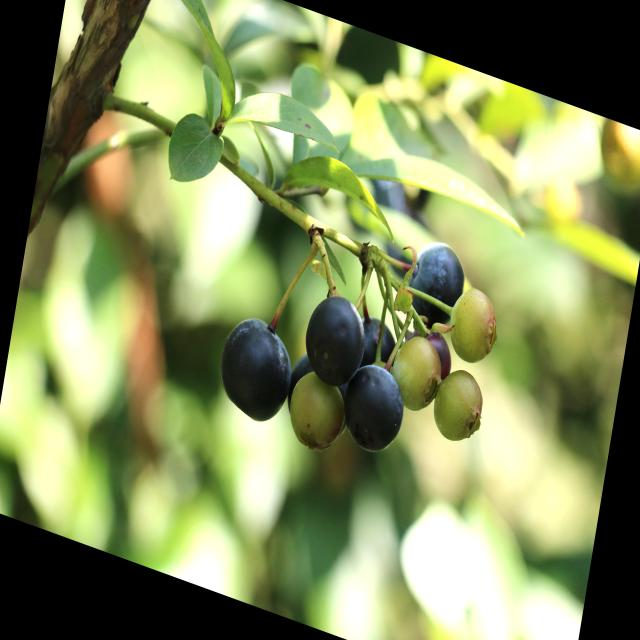blueberry: (208, 301, 308, 437), (296, 280, 378, 403), (335, 349, 416, 469), (397, 227, 475, 342), (279, 339, 357, 447), (351, 304, 408, 381)
blueberry-unripe: (428, 360, 490, 455), (285, 369, 348, 460), (443, 280, 503, 374), (391, 328, 448, 415)
